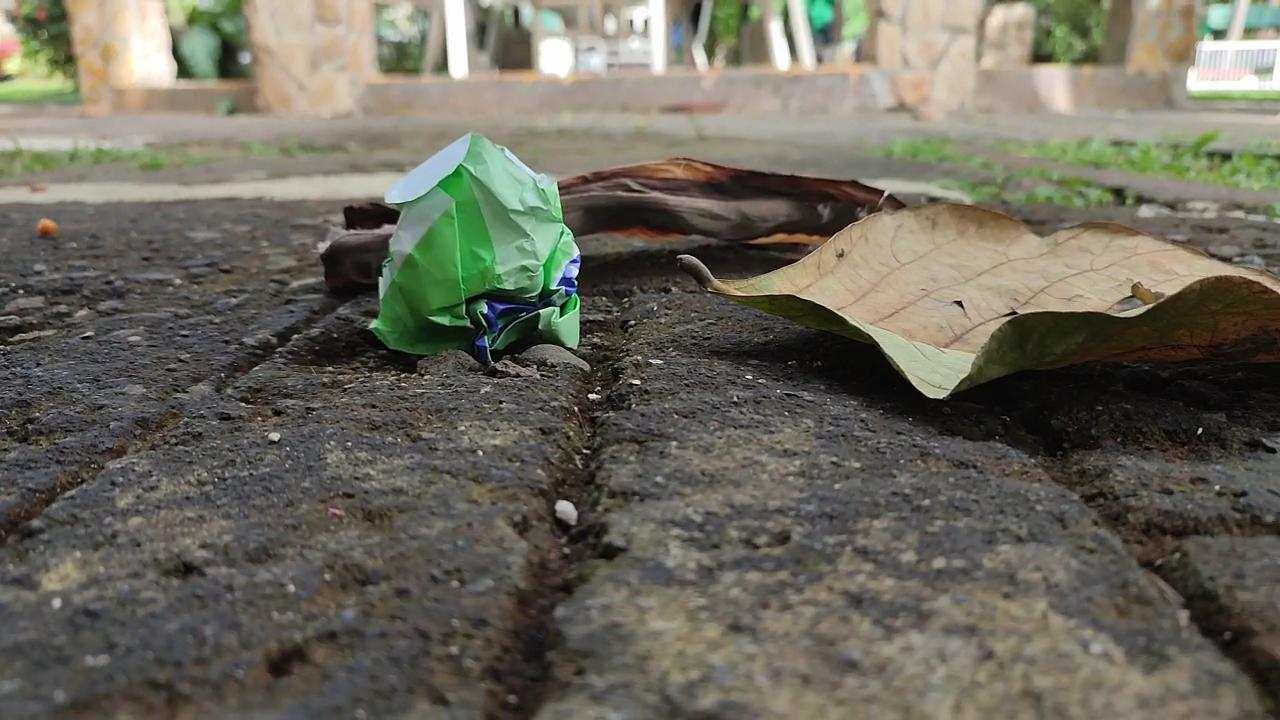Paper: (346, 128, 592, 372)
